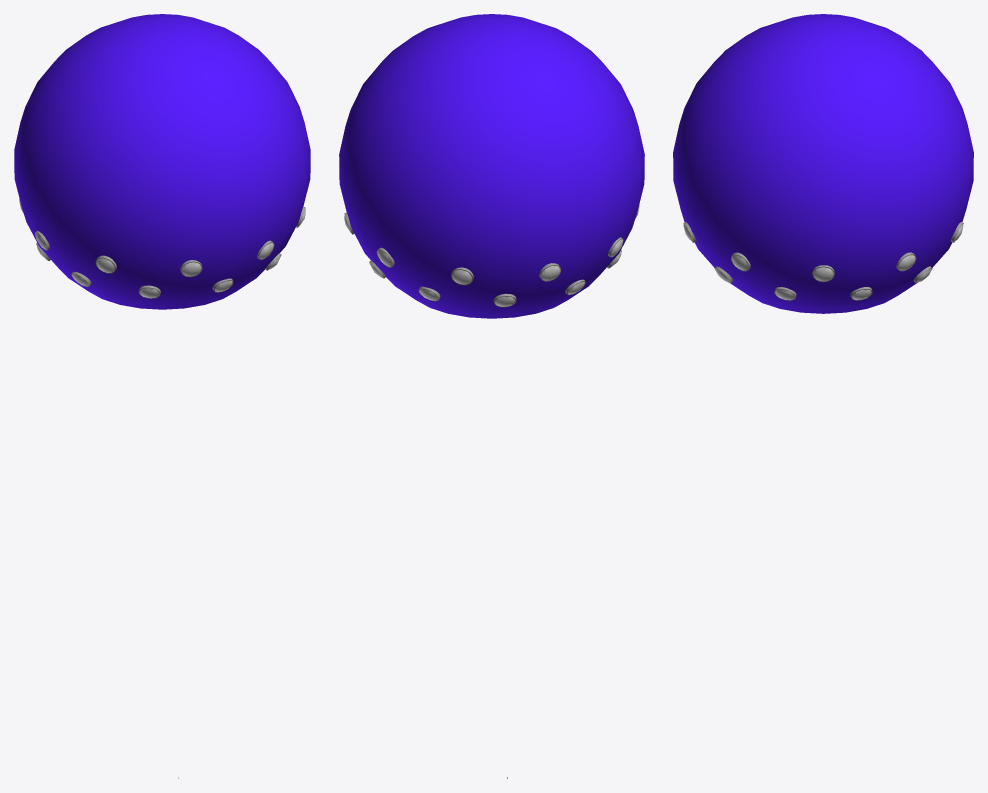
Rendered from addOn_PlainOrb.dae.
The picture shows the model from 3 angles, left to right: view 1: azimuth 30°, elevation 25°; view 2: azimuth 150°, elevation 25°; view 3: azimuth 270°, elevation 25°; orthographic projection. The views are drawn at different scales.
Parts seen in each view (by area): view 1: main2; view 2: main2; view 3: main2.
Boxes of the visible parts, x1,y1,x2,y2 form: main2: (14,14,310,309); main2: (339,14,644,318); main2: (673,14,973,313).
Bounding box in the file's own units: 80.44 × 80.44 × 221.
6 materials, 2 textured.
